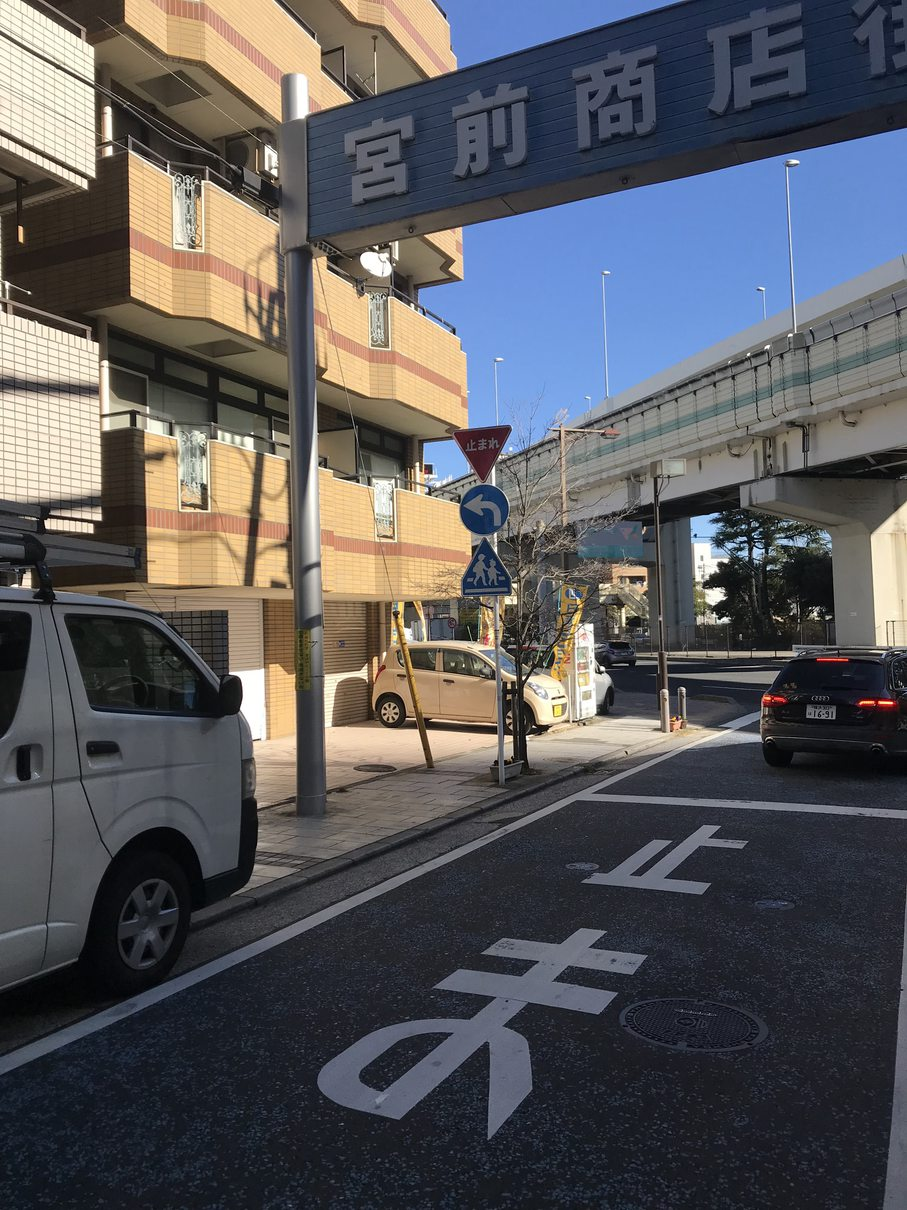stop_sign: (450, 425, 512, 482)
